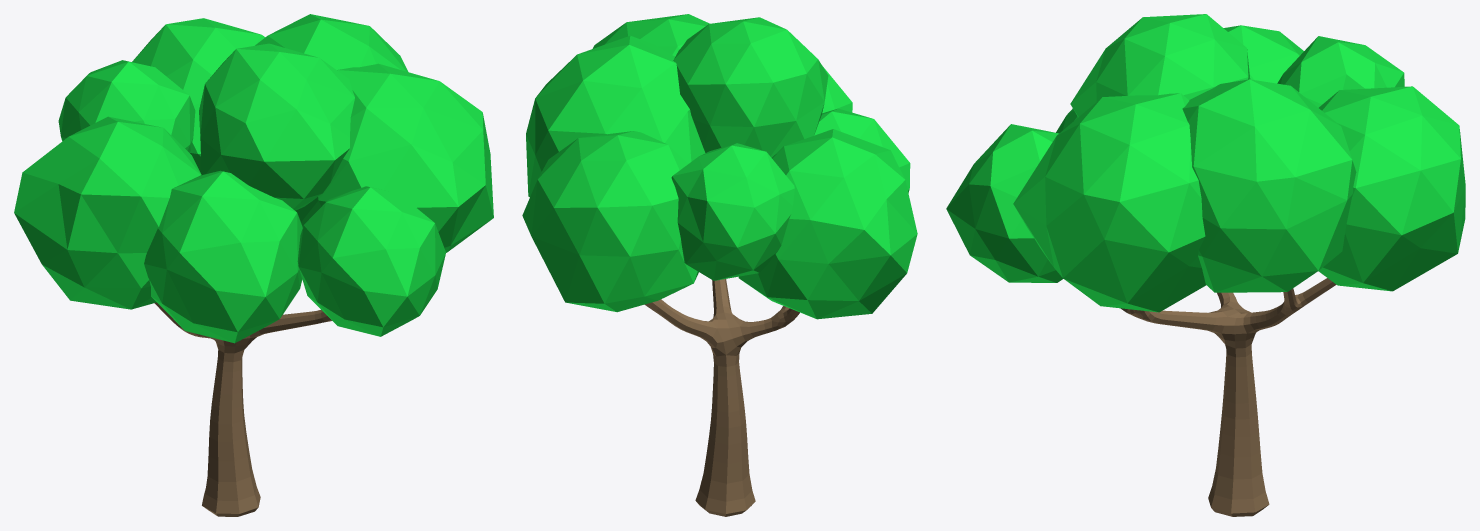
File: agaci.fbx
The picture shows the model from 3 angles, left to right: view 1: azimuth 30°, elevation 25°; view 2: azimuth 150°, elevation 25°; view 3: azimuth 270°, elevation 25°; orthographic projection. The views are drawn at different scales.
Parts seen in each view (by area): view 1: Icosphere.002, Plane; view 2: Icosphere.002, Plane; view 3: Icosphere.002, Plane.
Boxes of the visible parts, left/top/right/bottom form: Icosphere.002: left=14, top=14, right=493, bottom=343; Plane: left=154, top=302, right=331, bottom=516; Icosphere.002: left=522, top=14, right=917, bottom=319; Plane: left=644, top=279, right=799, bottom=516; Icosphere.002: left=946, top=14, right=1465, bottom=312; Plane: left=1120, top=278, right=1336, bottom=516.
Bounding box in the file's own units: 934 × 1084 × 1034.
